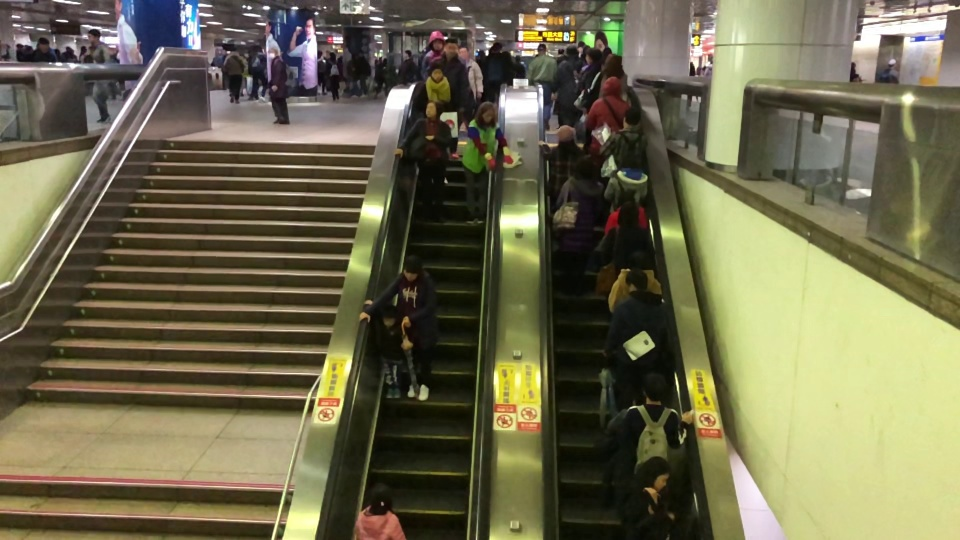person_head: (636, 455, 670, 495), (473, 98, 497, 130), (598, 53, 625, 79), (642, 372, 667, 400), (570, 154, 595, 179), (600, 75, 624, 100), (402, 254, 423, 282), (625, 269, 649, 293), (620, 105, 643, 130), (556, 121, 577, 147), (616, 204, 640, 226), (626, 250, 649, 271), (423, 99, 444, 121), (622, 149, 643, 171), (370, 486, 393, 506), (379, 304, 398, 328), (428, 29, 444, 53), (583, 48, 602, 65), (617, 191, 636, 208), (443, 39, 458, 60), (429, 64, 444, 83), (87, 27, 102, 44), (36, 36, 50, 54), (266, 45, 280, 59), (566, 45, 579, 59), (459, 44, 470, 59), (491, 41, 502, 54), (536, 43, 546, 56), (888, 58, 897, 69), (404, 48, 411, 60), (327, 52, 336, 61), (850, 61, 857, 70), (515, 55, 520, 62)
person_vbox: (358, 253, 439, 402), (604, 372, 695, 499), (601, 269, 667, 411), (393, 101, 453, 223), (552, 156, 605, 294), (458, 100, 513, 226), (601, 200, 659, 296), (618, 455, 676, 540), (581, 73, 629, 169), (582, 55, 628, 155), (362, 297, 405, 398), (419, 65, 455, 185), (537, 125, 587, 210), (434, 41, 469, 160), (597, 106, 648, 181), (606, 249, 663, 314), (349, 486, 408, 540), (601, 152, 649, 215), (523, 42, 557, 130), (86, 26, 116, 123), (551, 45, 583, 126), (267, 44, 292, 126), (603, 190, 648, 234), (479, 40, 507, 96), (457, 44, 483, 103), (421, 30, 446, 83), (222, 49, 245, 103), (579, 47, 604, 94), (324, 50, 342, 101), (29, 36, 56, 63), (398, 50, 418, 84), (874, 58, 900, 83), (848, 60, 863, 83), (513, 55, 527, 78)
